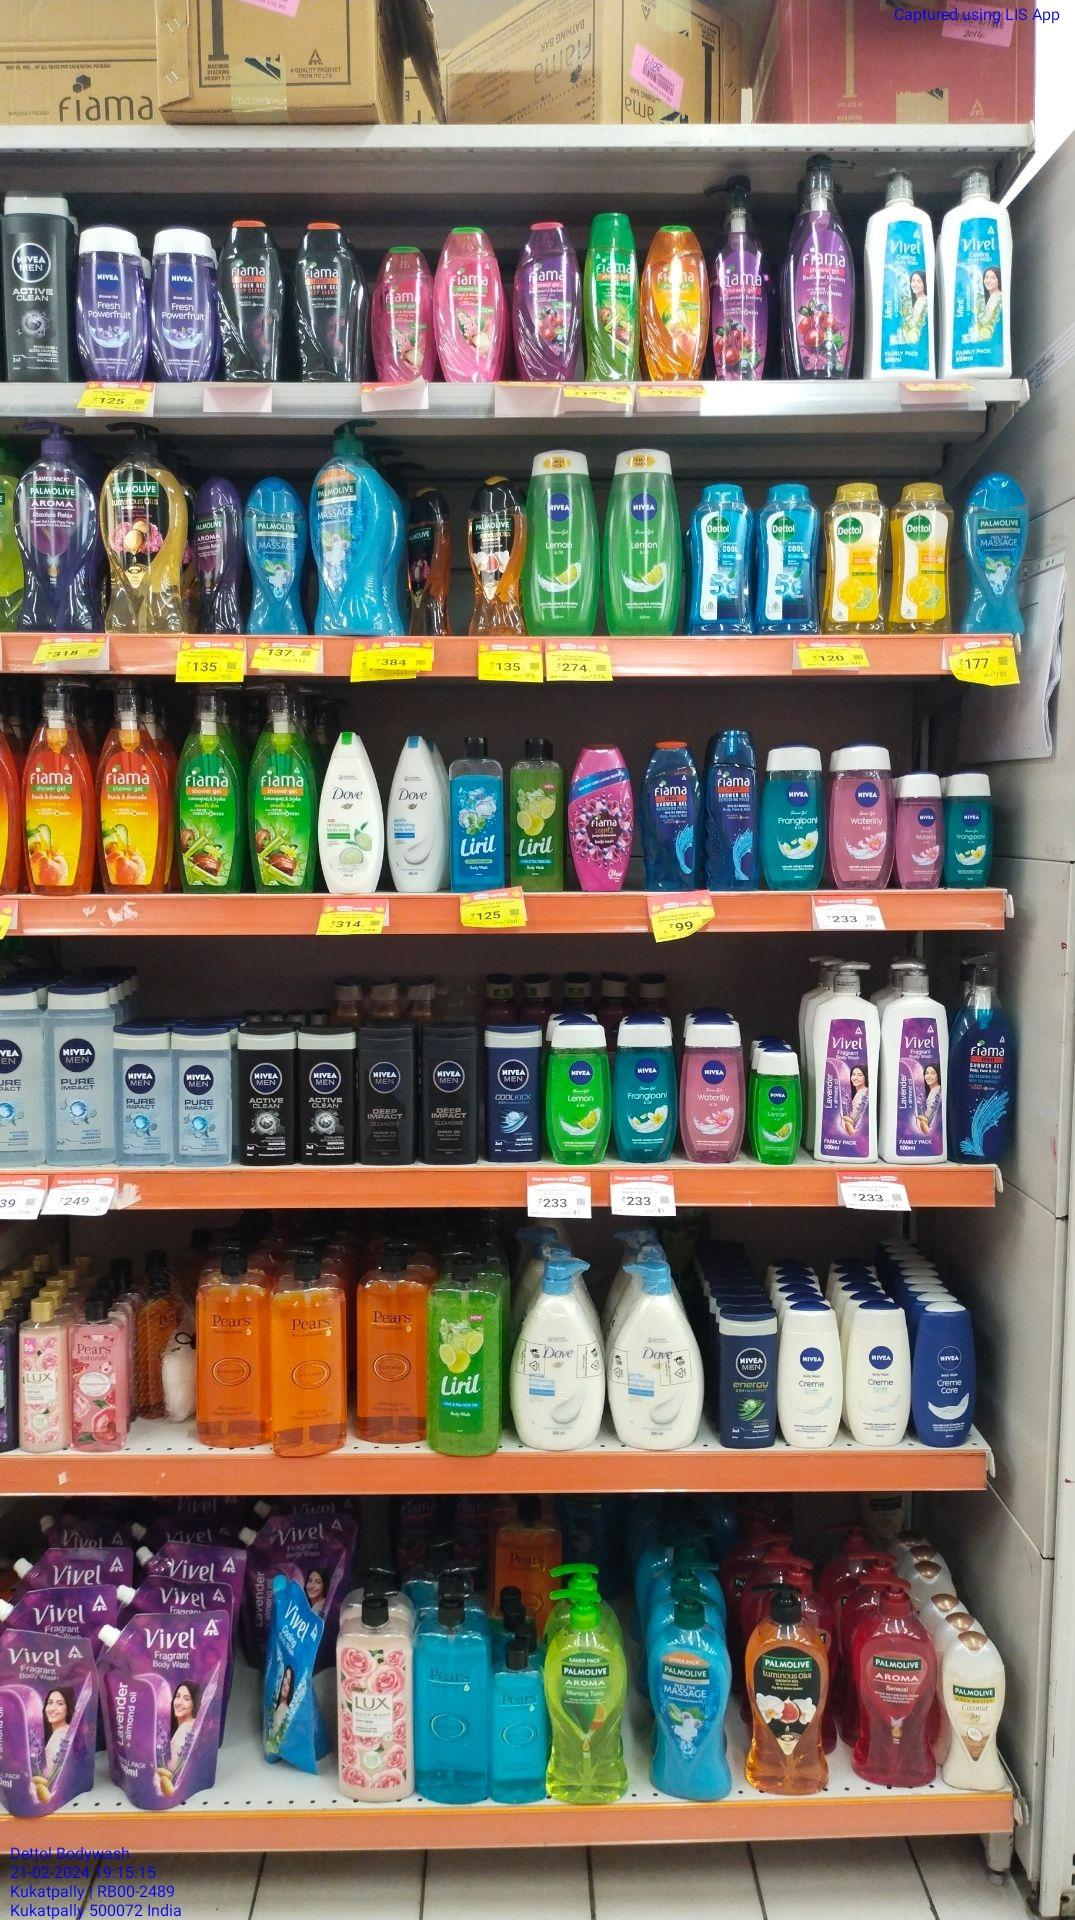Dettol_Bodywash_Cool: (756, 479, 816, 634), (691, 473, 749, 636)
Dettol_Bodywash_Refresh: (888, 480, 952, 632), (823, 480, 884, 633)
Dove_Gentle_Exfoliating_Body_Wash_250ML: (389, 731, 446, 894)
Dove_Refreshing_Body_Wash_250ML: (318, 737, 381, 894)
Fiama_Shower_Gel_Lemongrass_and_Jojoba_250ML: (645, 227, 706, 377), (584, 210, 637, 382)
Fiama_Shower_Gel_Patchouli_and_Macadamia_250ML: (435, 229, 507, 377), (375, 247, 433, 384)
Liril_Cooling_Mint_Body_Wash_250ML: (451, 742, 504, 890)
Liril_Lime_and_Tea_Tree_Oil_Body_Wash_250ML: (512, 733, 562, 890)
Nivea_Creme_Care_Body_Wash_250ML: (917, 1308, 975, 1447)
Nivea_Creme_Soft_Body_Wash_250ML: (847, 1302, 909, 1441), (781, 1307, 842, 1448)
Nivea_Shower_Gel_Frangipani_and_Oil_250ML: (761, 744, 826, 891), (615, 1026, 675, 1160)
Nivea_Shower_Gel_Fresh_Powerfruit_250ML: (73, 222, 148, 377), (152, 228, 219, 382)
Nivea_Shower_Gel_Lemon_and_Oil_250ML: (604, 448, 681, 633), (522, 455, 598, 633), (546, 1026, 612, 1166)
Nivea_Shower_Gel_Waterlily_and_Oil_250ML: (681, 1017, 744, 1160), (830, 750, 893, 893)
Palmolive_Aroma_Moments_Feel_The_Massage_Shower_Gel_250ML: (962, 473, 1026, 636), (243, 481, 309, 636)
Palmolive_Aroma_Relax_250ML: (195, 487, 240, 632)
Palmolive_Coconut_Joy_Exfoliating_Body_Wash_250ML: (939, 1638, 1004, 1793)
Palmolive_Luminous_Oils_Invigorating_Macadamia_Oil_With_Peony_250ML: (408, 492, 450, 637)
Palmolive_Luminous_Oils_With_White_Orchid_Shower_Gel_250ML: (467, 480, 518, 634)
Pears_Pure_Glycerin_and_Mint_Extracts_Body_Wash_250ML: (488, 1652, 549, 1808)
